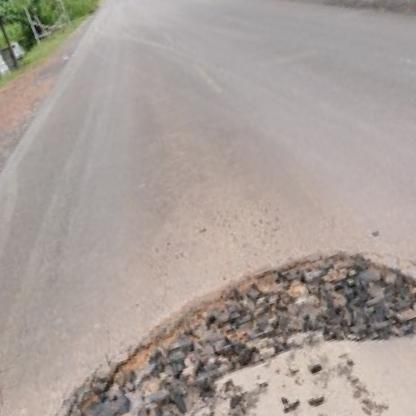pothole: (11, 216, 416, 416)
